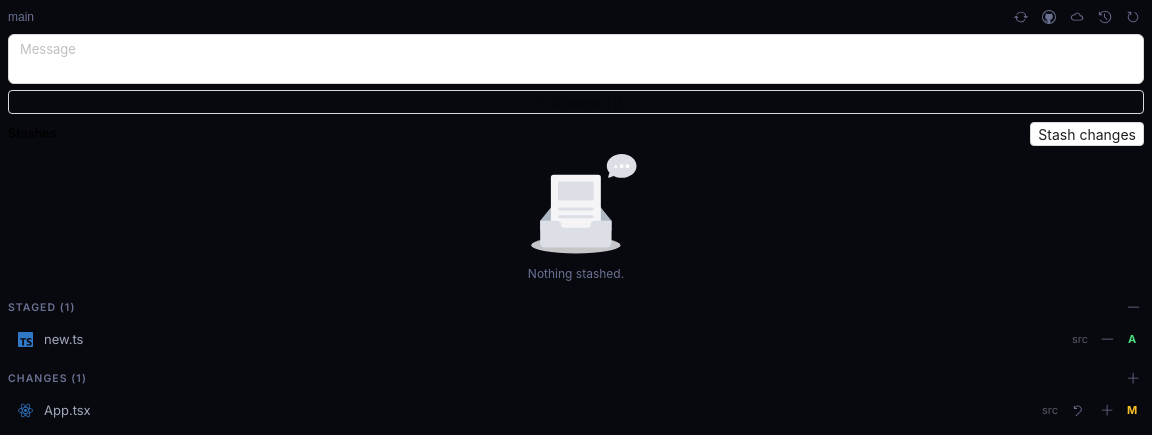
Test: SourceControlPanel remotes › offers fetch and pull per remote
Expected: the text "App.tsx" is shown, [44,402,91,418]
Click the button named "Remotes".
click(1077, 17)  # box [1066,6,1088,28]
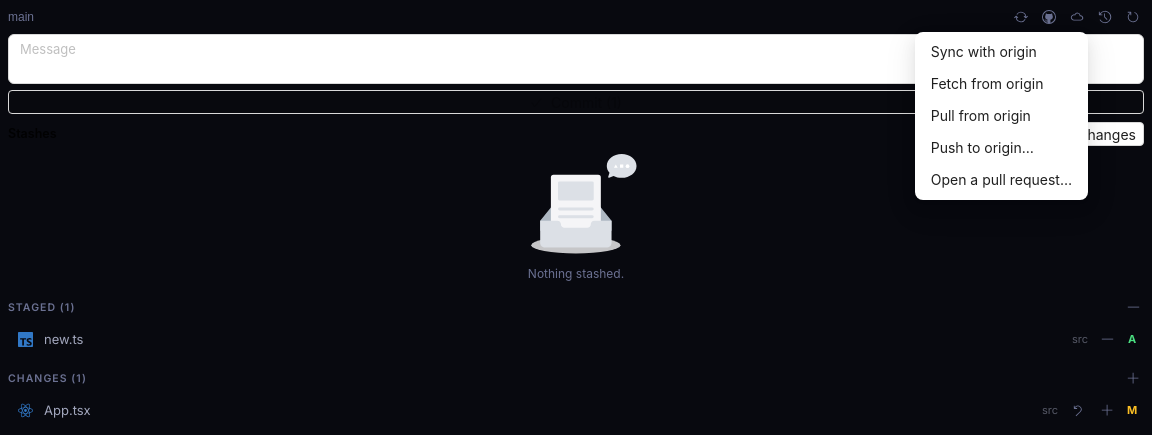
Now the text "Fetch from origin" is shown, box [931,75,1044,92]
Now the text "Pull from origin" is shown, box [931,107,1031,124]
